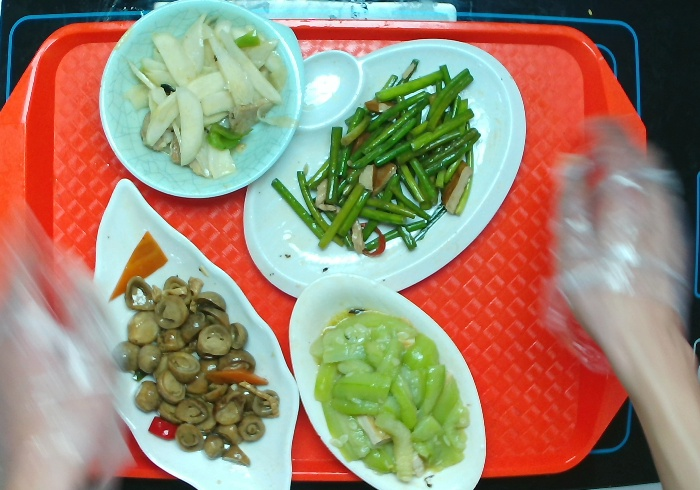RJxy-Bai_Se_Tuo_Yuan: (287, 273, 488, 490)
RJxy-Shu_Ye_Pan: (89, 176, 301, 490)
RJxy-Xiao_Jiao_Yuan_Wan: (97, 1, 306, 200)
RJxy-Zhan_Liao_Pan: (241, 37, 528, 298)
